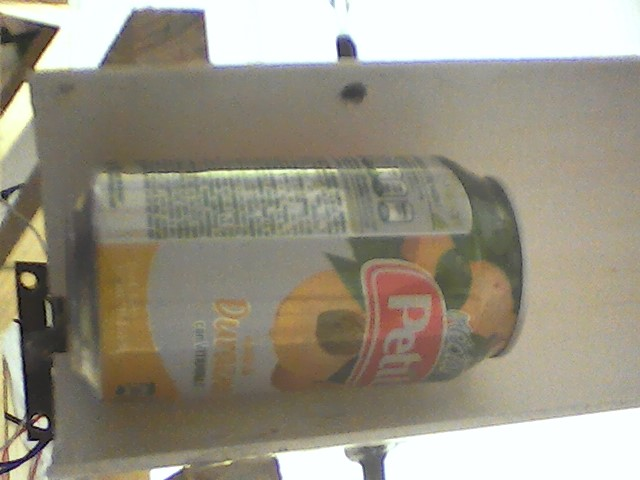lata: (57, 149, 545, 410)
